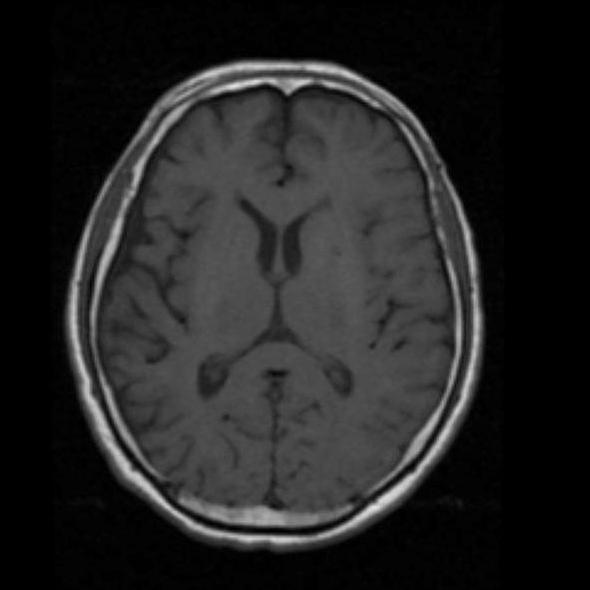Normal_Brain: (1, 1, 586, 590)
